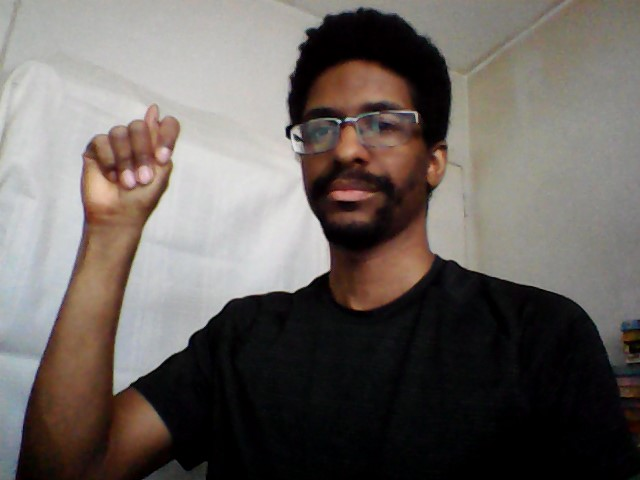t: (76, 100, 186, 224)
